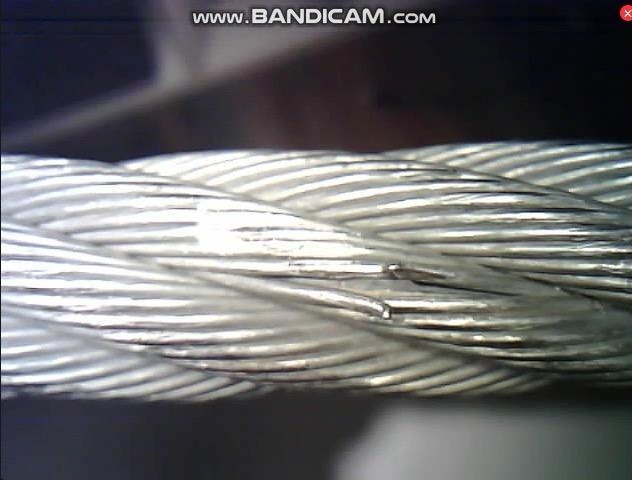break: (363, 254, 418, 327)
